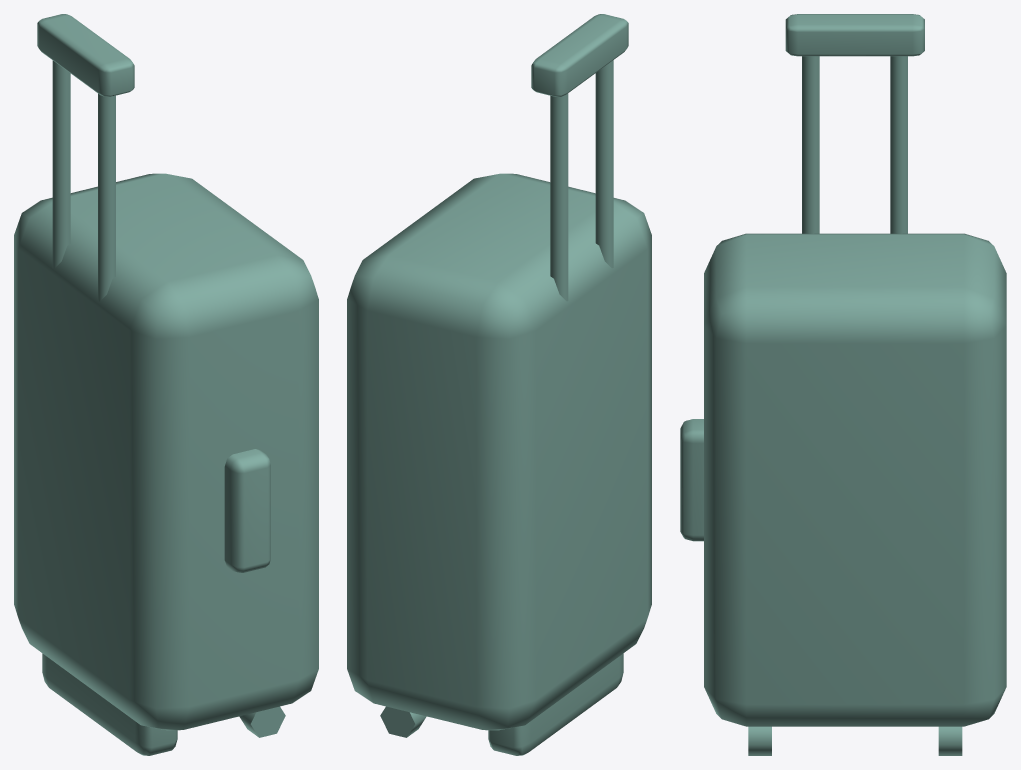
File: ATLAS_PR_LUGGAGE_B.fbx
3 views of the same model, side by side, from view 1: azimuth 30°, elevation 25°; view 2: azimuth 150°, elevation 25°; view 3: azimuth 270°, elevation 25° (orthographic). The views are drawn at different scales.
Visible parts, largest first — view 1: PR_LUGGAGE_B; view 2: PR_LUGGAGE_B; view 3: PR_LUGGAGE_B.
Part boxes in pixels (x1,y1,x2,y2): PR_LUGGAGE_B: (14,14,318,755); PR_LUGGAGE_B: (347,14,651,755); PR_LUGGAGE_B: (680,14,1006,755).
Size of the model in its own units: 45.43 by 157 by 69.26.
